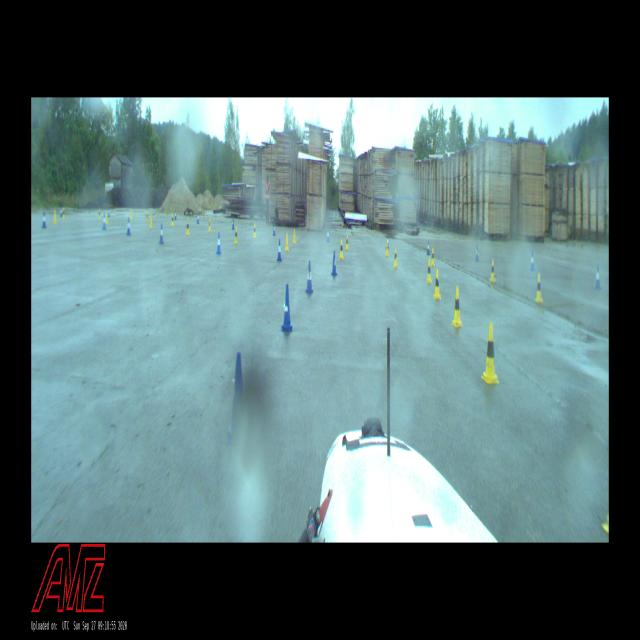blue_cone: (226, 354, 247, 444), (282, 285, 292, 331), (305, 261, 313, 293), (331, 250, 337, 276), (216, 232, 222, 254), (594, 266, 600, 288), (277, 239, 282, 261), (474, 244, 480, 261), (159, 224, 164, 243), (530, 251, 534, 270), (126, 219, 130, 235), (42, 212, 46, 228), (326, 228, 330, 242), (103, 213, 106, 229), (427, 242, 430, 254), (174, 210, 177, 220), (387, 236, 389, 248), (273, 224, 275, 235), (232, 219, 234, 230), (197, 214, 199, 224), (108, 207, 110, 217), (61, 207, 62, 217)
yellow_cone: (483, 322, 498, 382), (452, 287, 462, 326), (433, 270, 441, 298), (535, 274, 542, 302), (426, 259, 432, 282), (490, 260, 495, 282), (339, 240, 344, 259), (393, 248, 398, 267), (285, 233, 289, 250), (431, 248, 435, 265), (234, 228, 238, 244), (186, 220, 190, 235), (292, 229, 296, 243), (346, 235, 349, 249), (253, 224, 256, 237), (150, 215, 153, 228), (171, 213, 174, 226), (386, 240, 388, 256), (209, 218, 211, 231), (106, 211, 108, 224), (54, 211, 56, 223), (146, 211, 148, 222), (98, 209, 100, 219), (62, 208, 64, 218), (130, 210, 132, 219)
